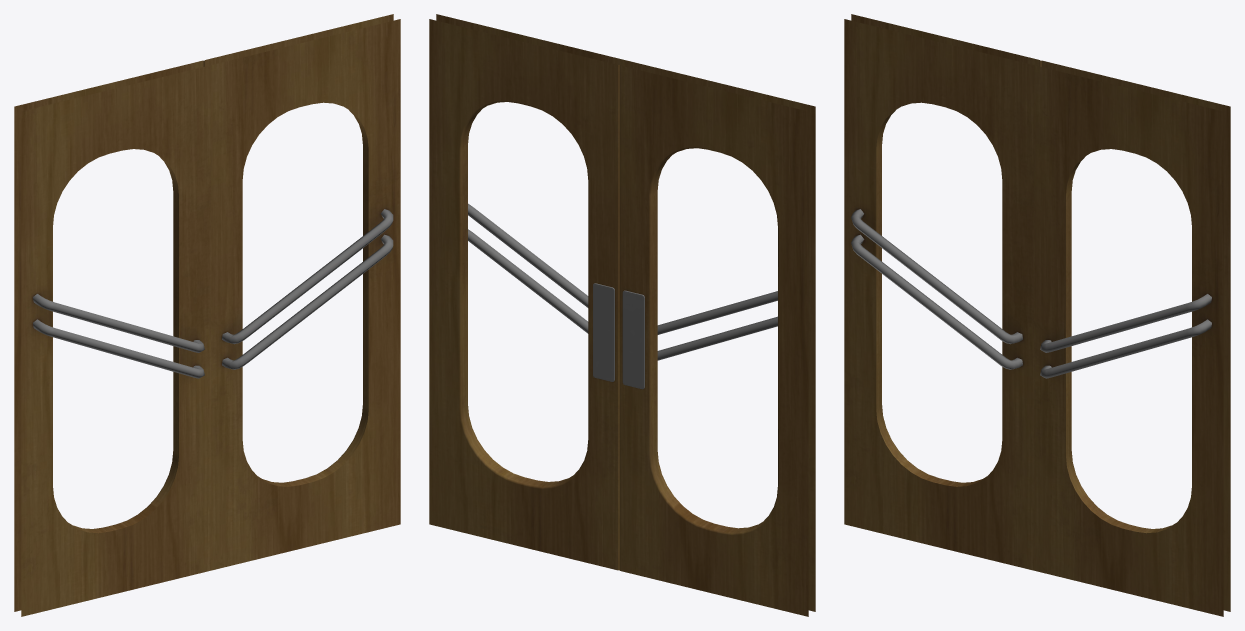
File: diner_door-75PWGlvI.glb
The picture shows the model from 3 angles, left to right: view 1: azimuth 30°, elevation 25°; view 2: azimuth 150°, elevation 25°; view 3: azimuth 330°, elevation 25°; orthographic projection.
Visible parts, largest first — view 1: Front_Door_low; view 2: Front_Door_low; view 3: Front_Door_low.
Part boxes in pixels (x1,y1,x2,y2): Front_Door_low: (14, 14, 400, 616); Front_Door_low: (429, 14, 815, 616); Front_Door_low: (844, 14, 1230, 616).
Bounding box in the file's own units: 177 × 225 × 14.35.
Materials: 1 (1 with a texture image).
